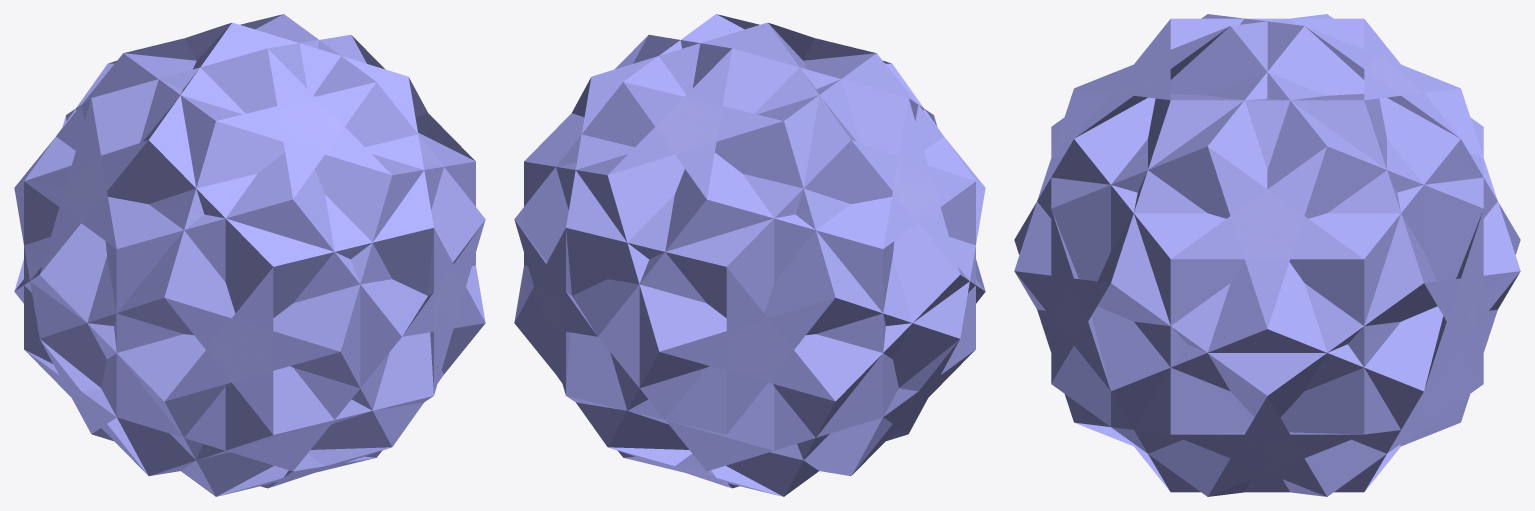
File: fractalicosidodecadodecahedron0.glb
The picture shows the model from 3 angles, left to right: view 1: azimuth 30°, elevation 25°; view 2: azimuth 150°, elevation 25°; view 3: azimuth 270°, elevation 25°; orthographic projection. The views are drawn at different scales.
Bounding box in the file's own units: 12.54 × 12.54 × 12.54.
